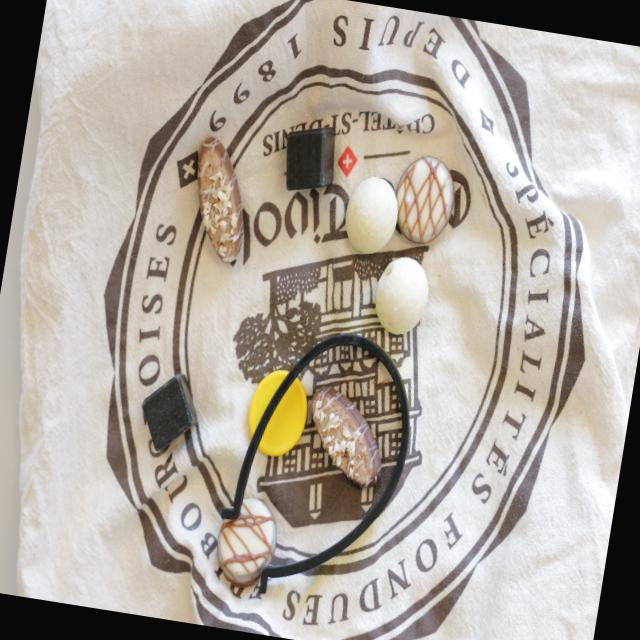Amandina: (299, 384, 391, 490), (183, 138, 256, 265)
Comtesse: (370, 252, 433, 338), (340, 174, 402, 257)
Creme_brulee: (212, 492, 282, 592), (388, 153, 459, 248)
